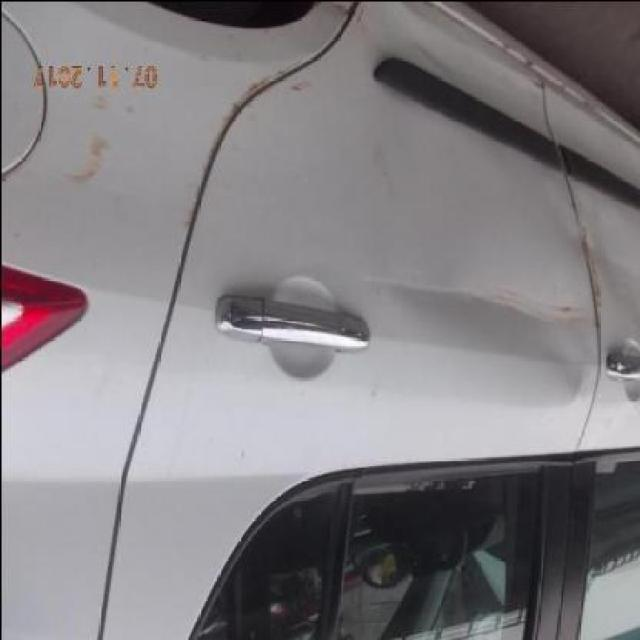damage: (407, 274, 589, 398), (586, 193, 638, 319)
